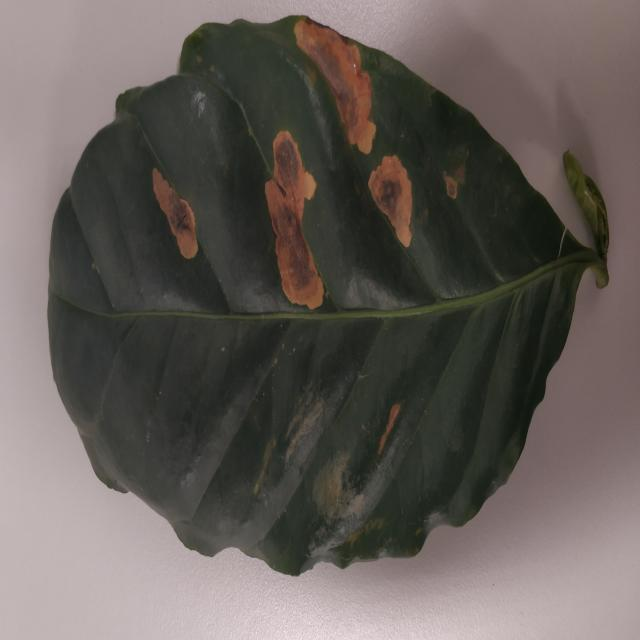Plaga-Minador: (46, 16, 611, 579)
